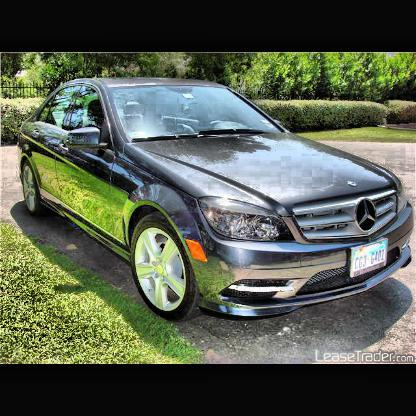Mercedes-Benz C-Class Sedan 2012: (16, 76, 416, 326)
